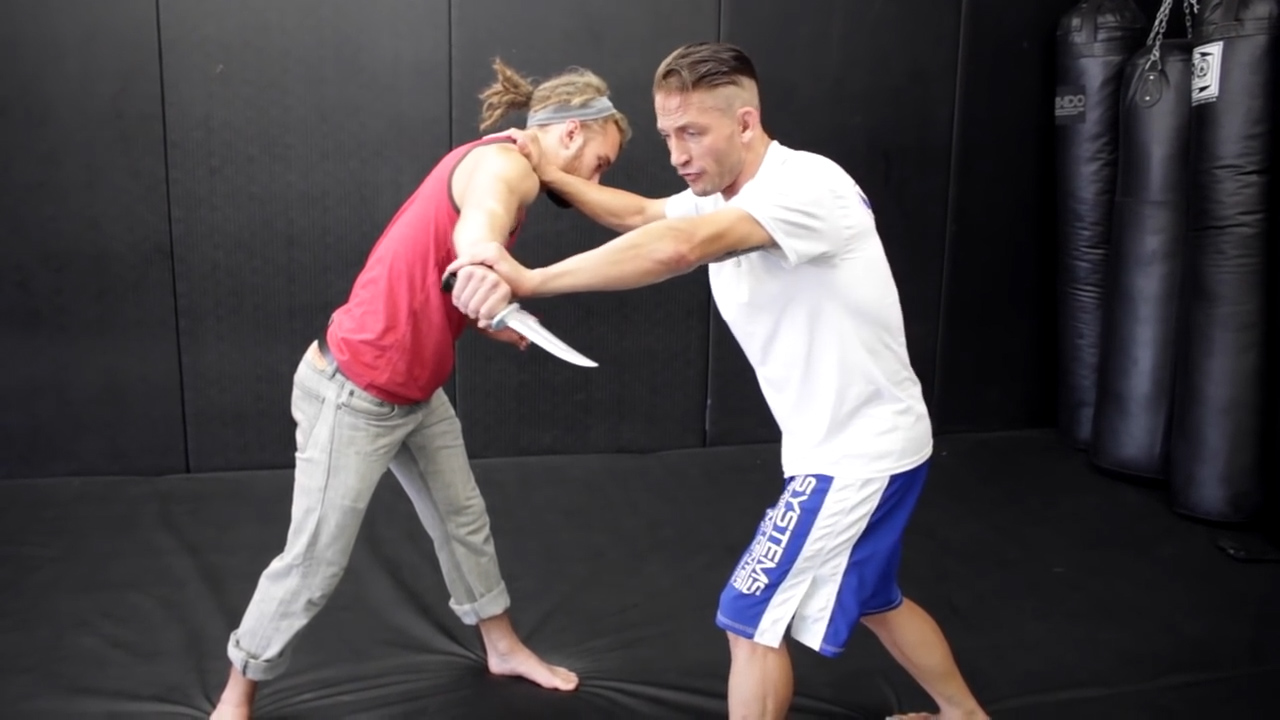knife: (431, 266, 611, 384)
